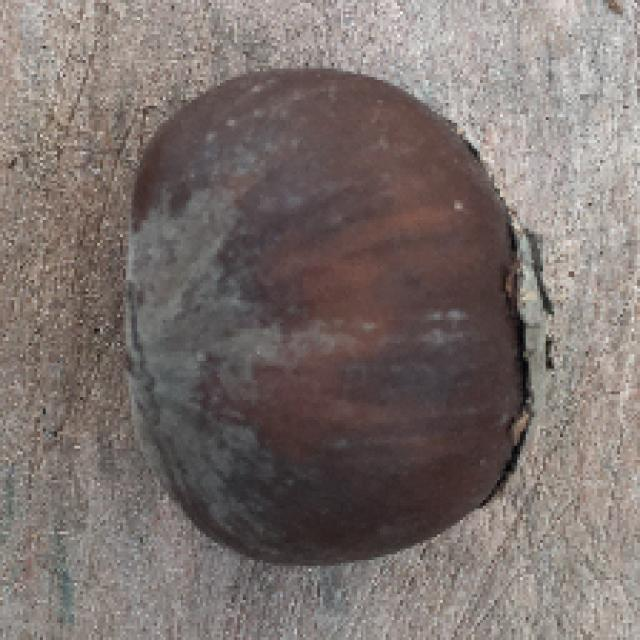damagedHazelnut: (119, 60, 560, 574)
